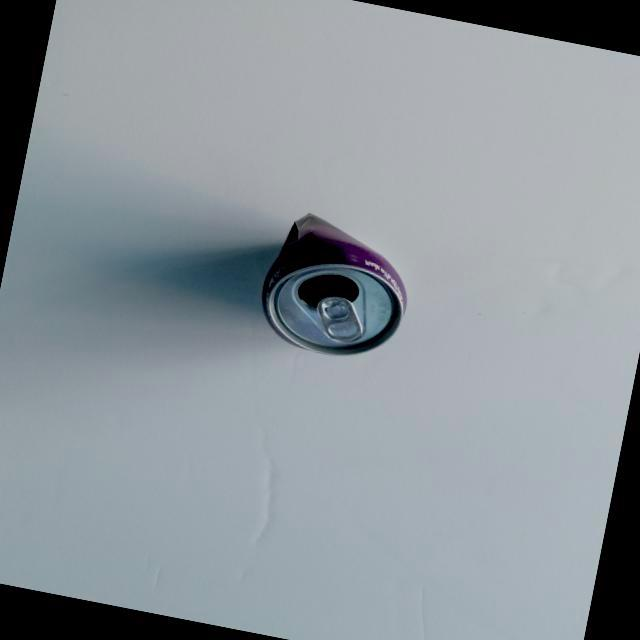metal: (207, 184, 447, 382)
